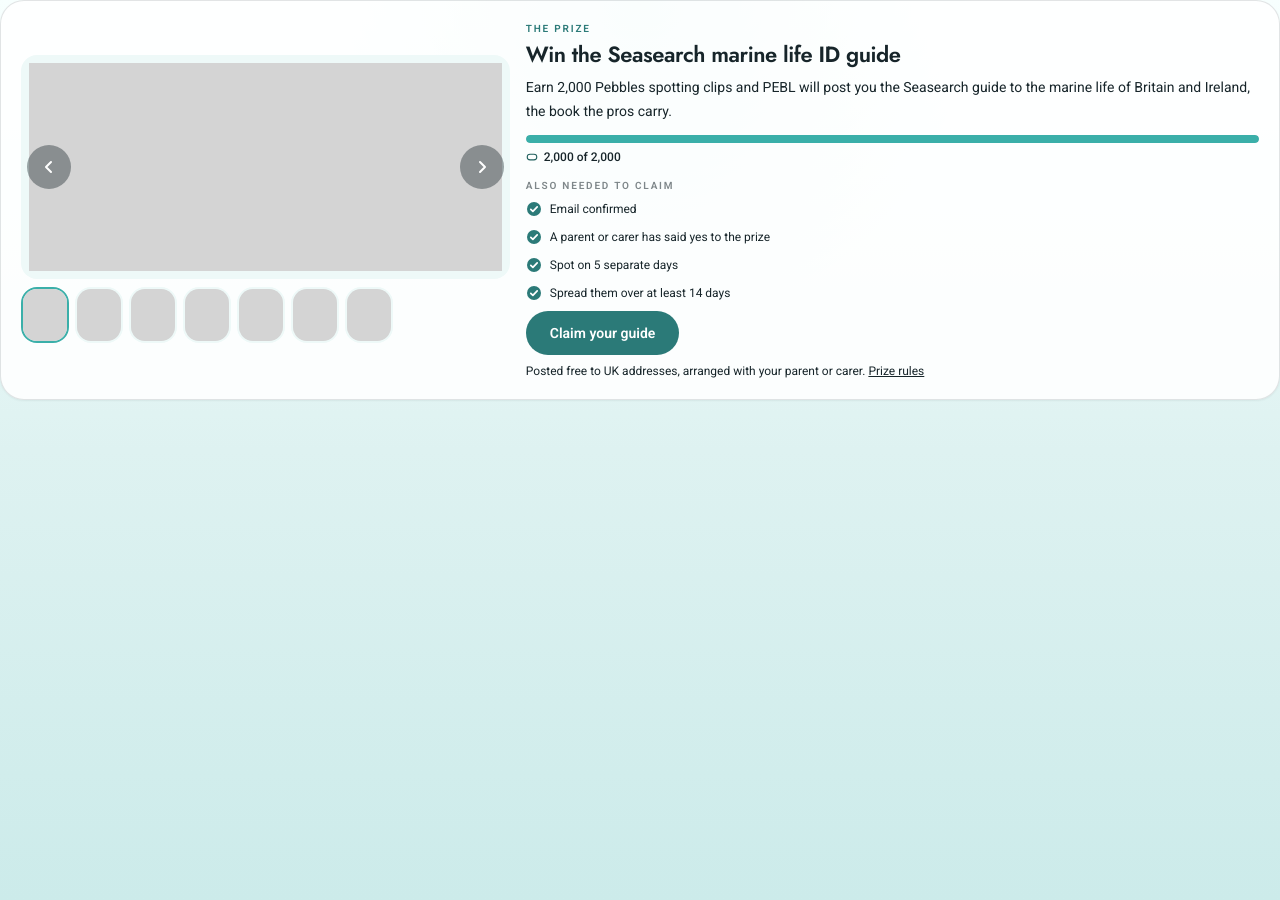
it: PrizeCard › tells an under-18 that delivery is arranged with their parent
This screenshot has width=1280, height=900.
Check: the text "arranged with your parent or carer" is shown, box [677,364,862,378]
Click the button "Claim your guide".
click(603, 333)  # box [526,311,679,355]
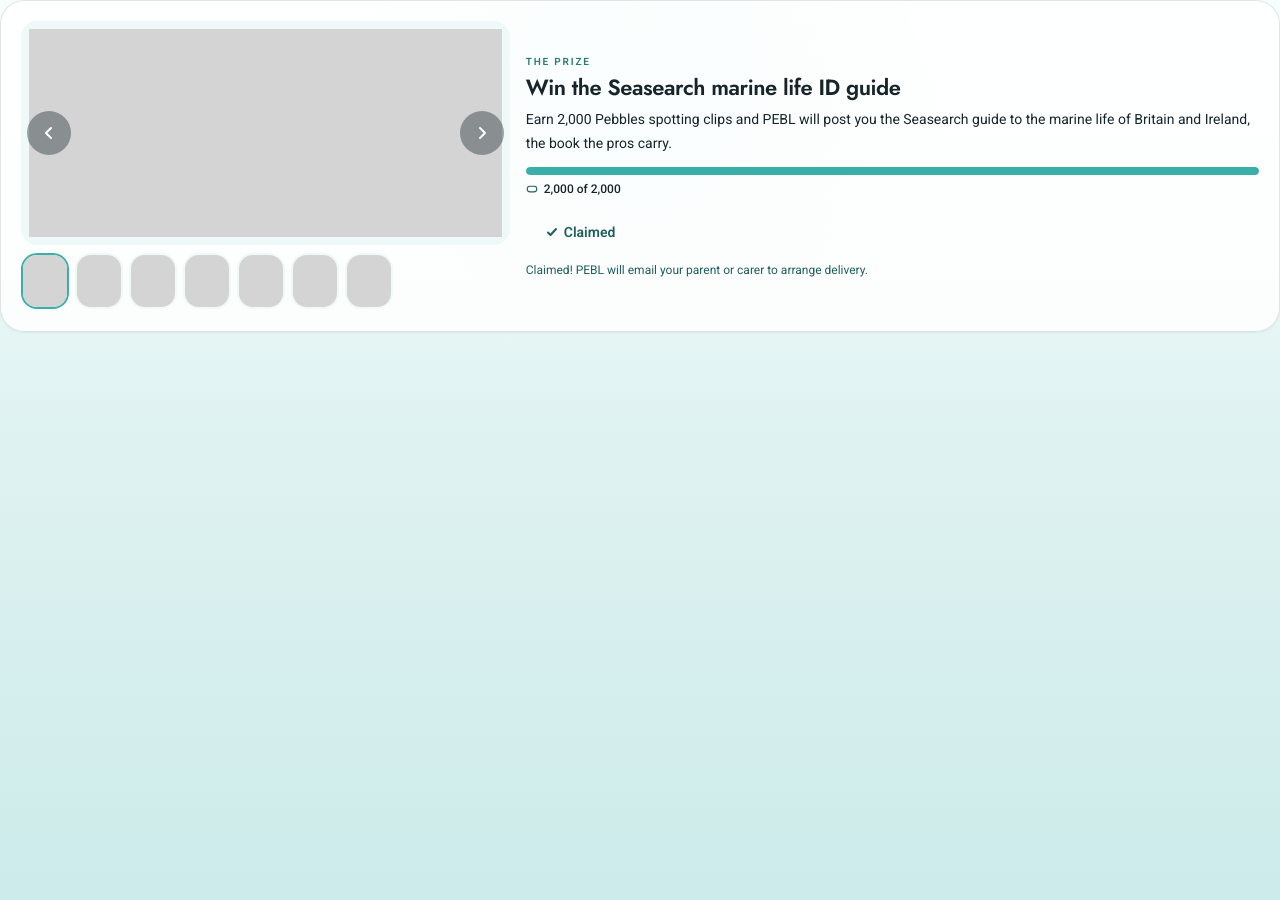
Check: the text "Claimed! PEBL will email your parent or carer to arrange delivery." is shown, box [526,263,868,277]
